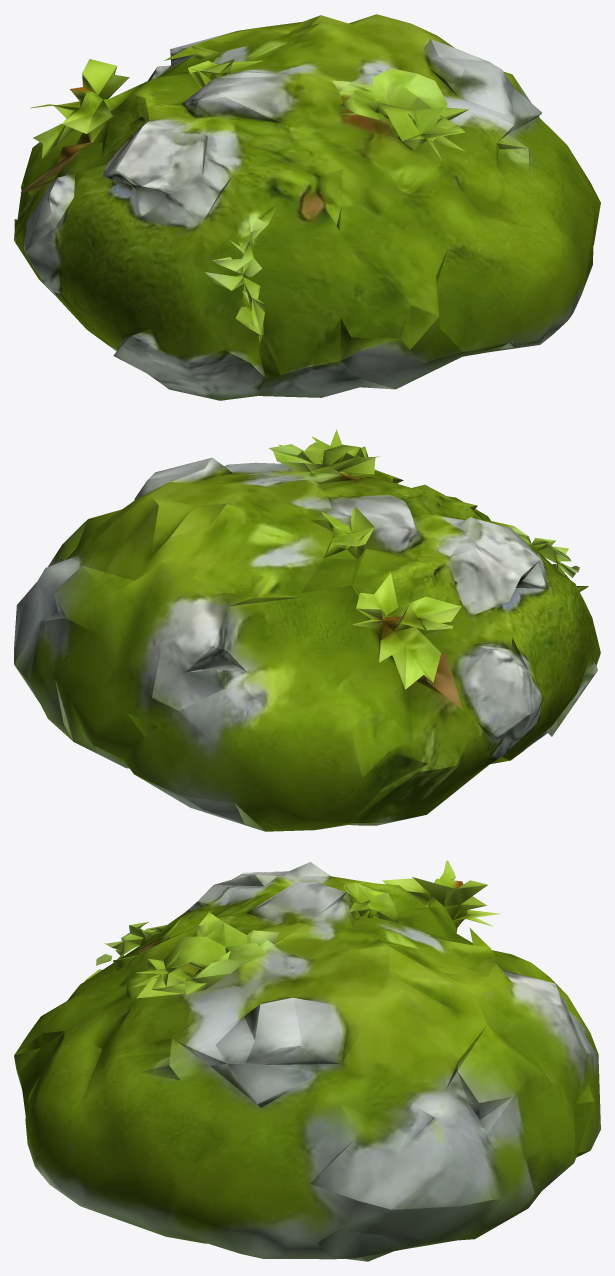
The model's file is jungleRock.glb.
3 renders of one model, top to bottom at view 1: azimuth 30°, elevation 25°; view 2: azimuth 150°, elevation 25°; view 3: azimuth 270°, elevation 25°, orthographic. The views are drawn at different scales.
Visible parts, largest first — view 1: model; view 2: model; view 3: model.
Boxes of the visible parts, x1,y1,x2,y2 form: model: [14, 14, 600, 400]; model: [14, 429, 600, 831]; model: [14, 860, 600, 1261].
Bounding box in the file's own units: 1.91 × 0.9934 × 1.85.
1 material, 1 textured.
